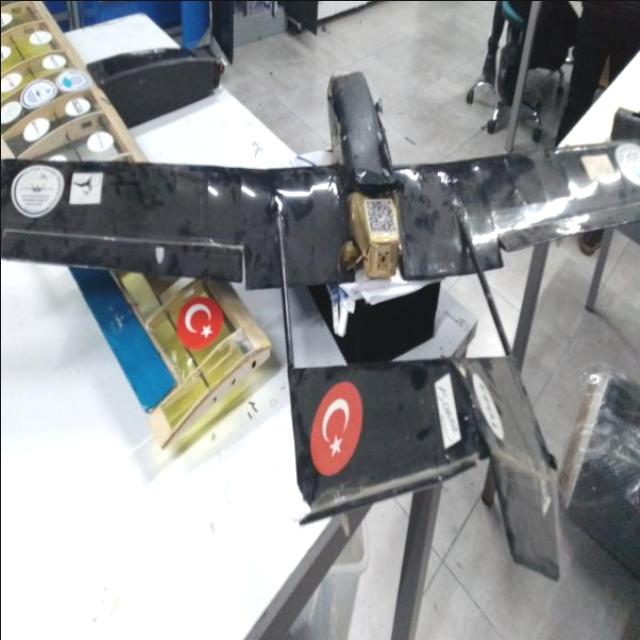plane: (0, 62, 640, 582)
